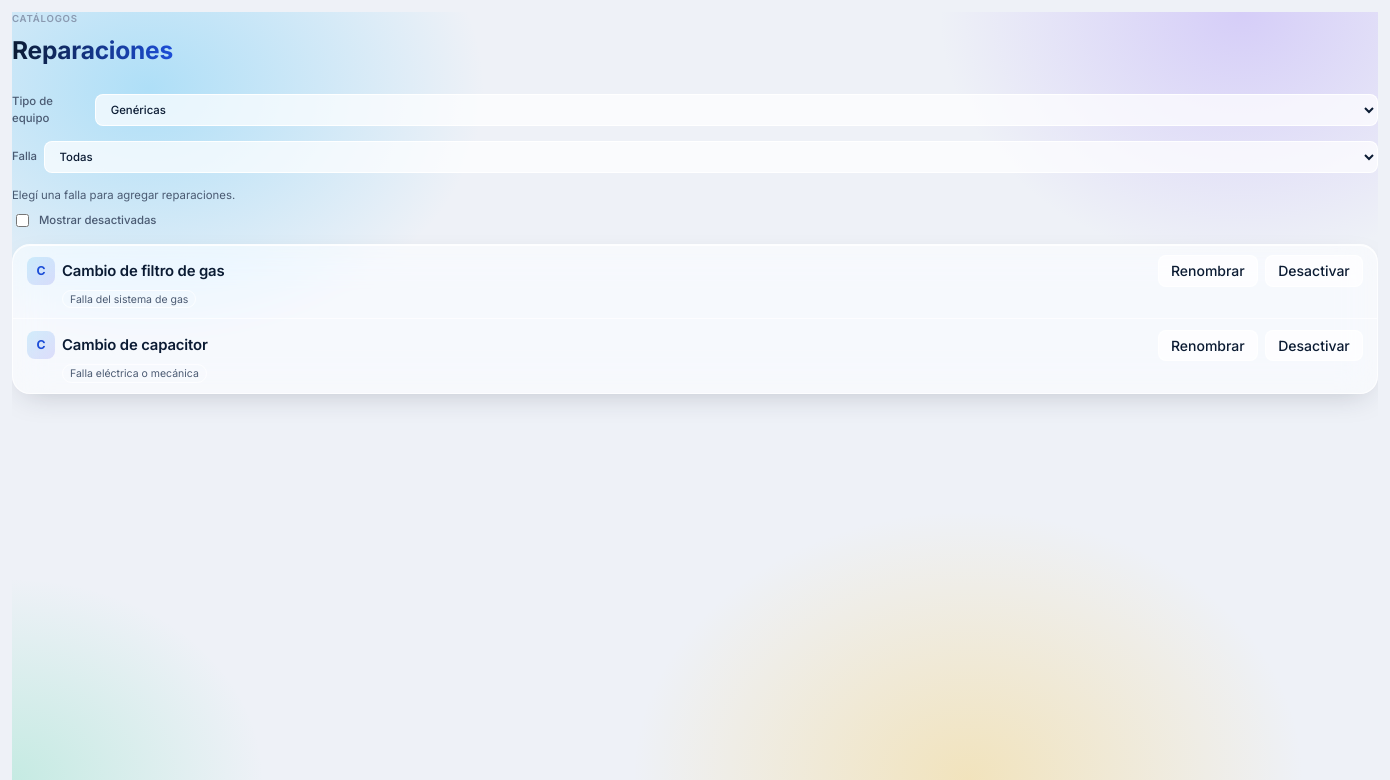
RepairsPage › filtra por falla
Check: the text "Cambio de capacitor" is shown, box [62,336,208,354]
Select "Falla eléctrica o mecánica" in the dropdown labelled "Falla" at (711, 157), box [44,141,1378,173]
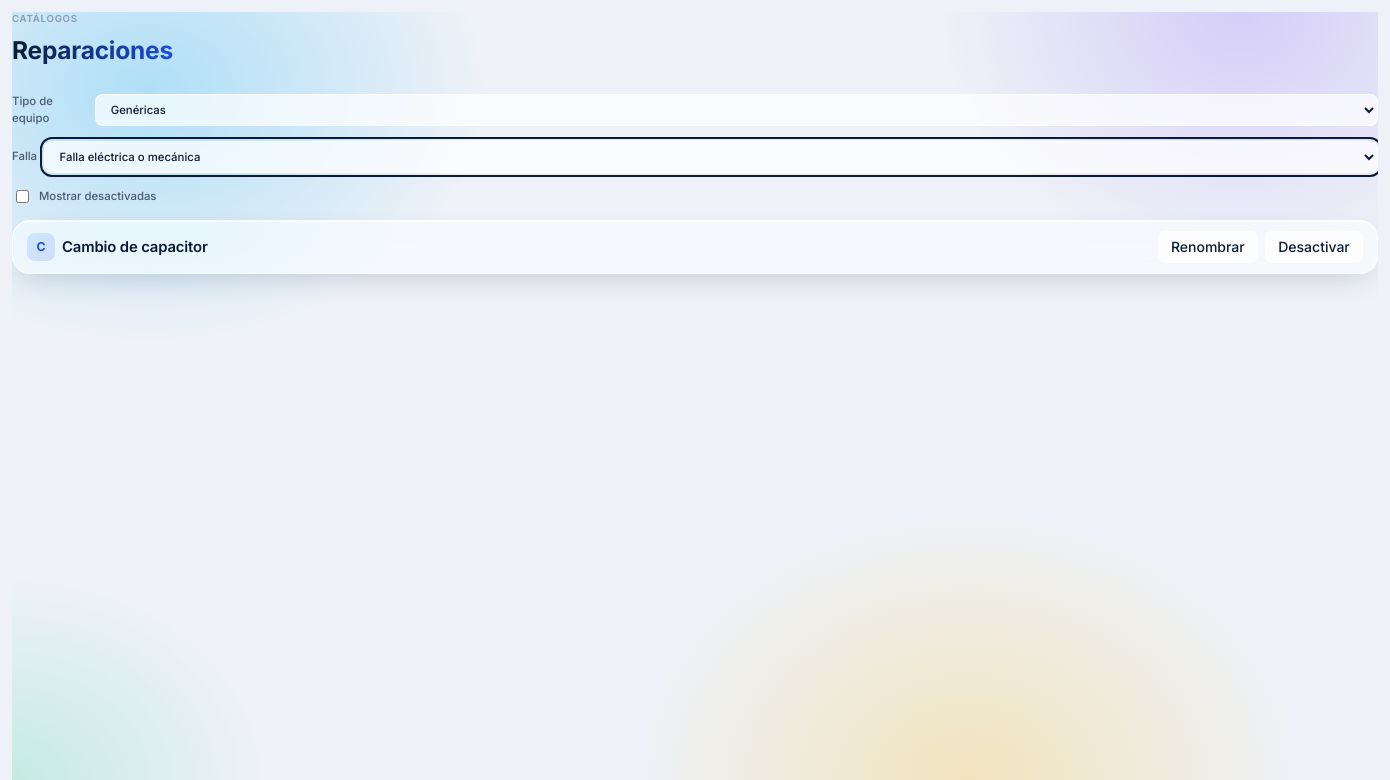
Check: the text "Cambio de capacitor" is shown, box [62,238,208,256]
Check: the text "Cambio de filtro de gas" is gone
